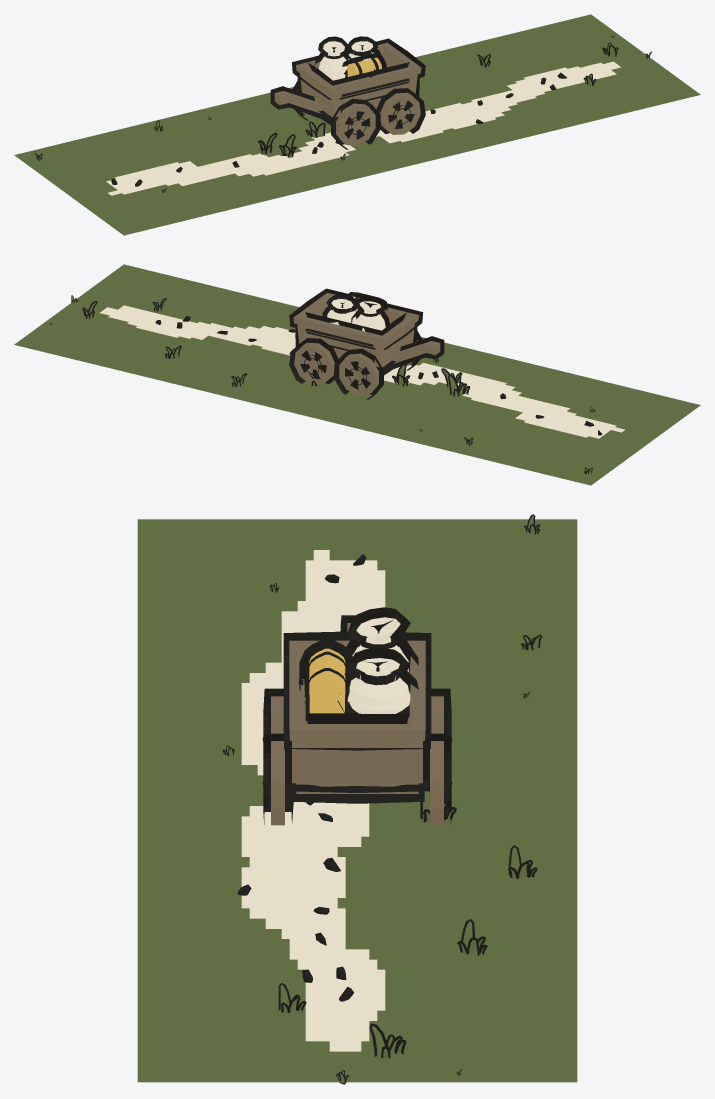
File: pagan_plain.glb
The picture shows the model from 3 angles, top to bottom: view 1: azimuth 30°, elevation 25°; view 2: azimuth 150°, elevation 25°; view 3: azimuth 270°, elevation 25°; orthographic projection. The views are drawn at different scales.
Parts seen in each view (by area): view 1: ground, cart; view 2: ground, cart; view 3: ground, cart.
Part boxes in pixels (left/top/right/bottom): ground: left=14, top=14, right=700, bottom=235; cart: left=270, top=36, right=425, bottom=149; ground: left=14, top=264, right=700, bottom=485; cart: left=289, top=288, right=444, bottom=399; ground: left=137, top=514, right=577, bottom=1084; cart: left=262, top=607, right=452, bottom=825.
Size of the model in its own units: 6.08 by 0.9008 by 2.
